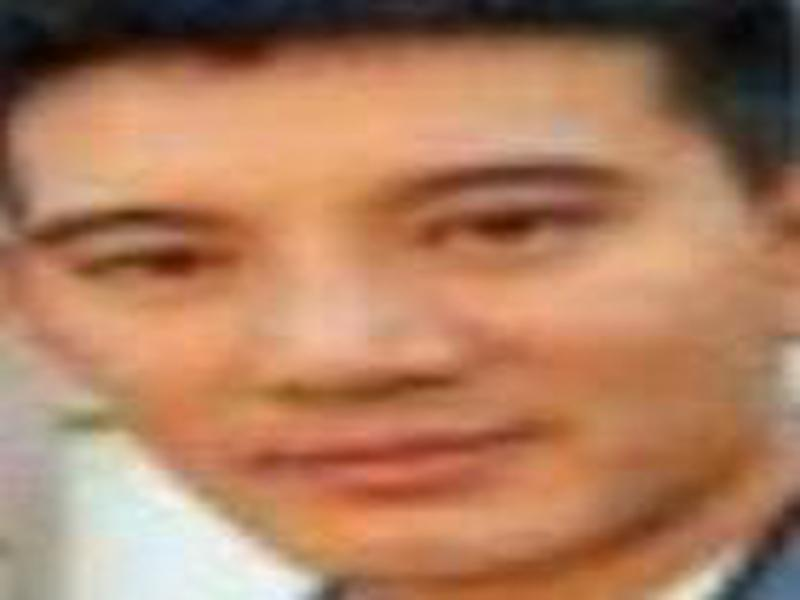without_mask: (10, 50, 772, 576)
